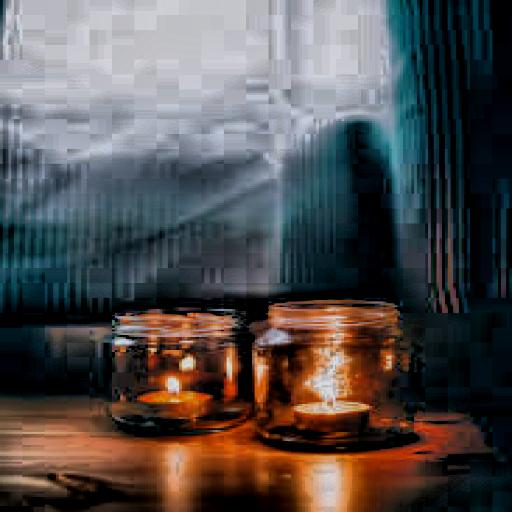fire: (314, 368, 342, 396), (156, 368, 184, 392)
